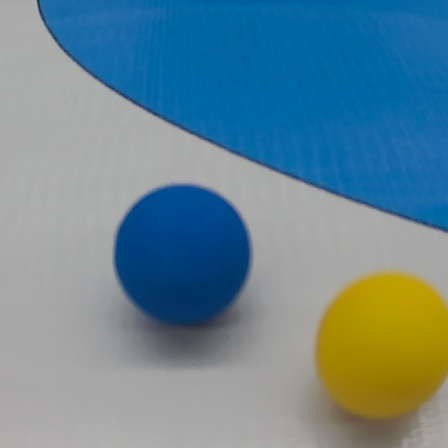blue: (110, 179, 254, 334)
blue_base: (33, 1, 448, 232)
yellow: (319, 265, 448, 421)
